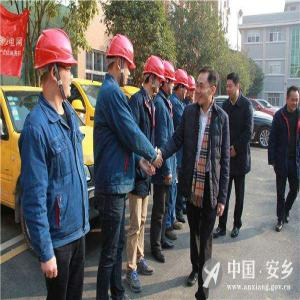none: (196, 66, 220, 108), (226, 72, 241, 100), (286, 85, 300, 114)
red: (34, 28, 75, 102), (107, 33, 136, 90), (142, 56, 166, 96), (162, 60, 176, 96), (175, 69, 189, 101), (187, 74, 197, 102)
